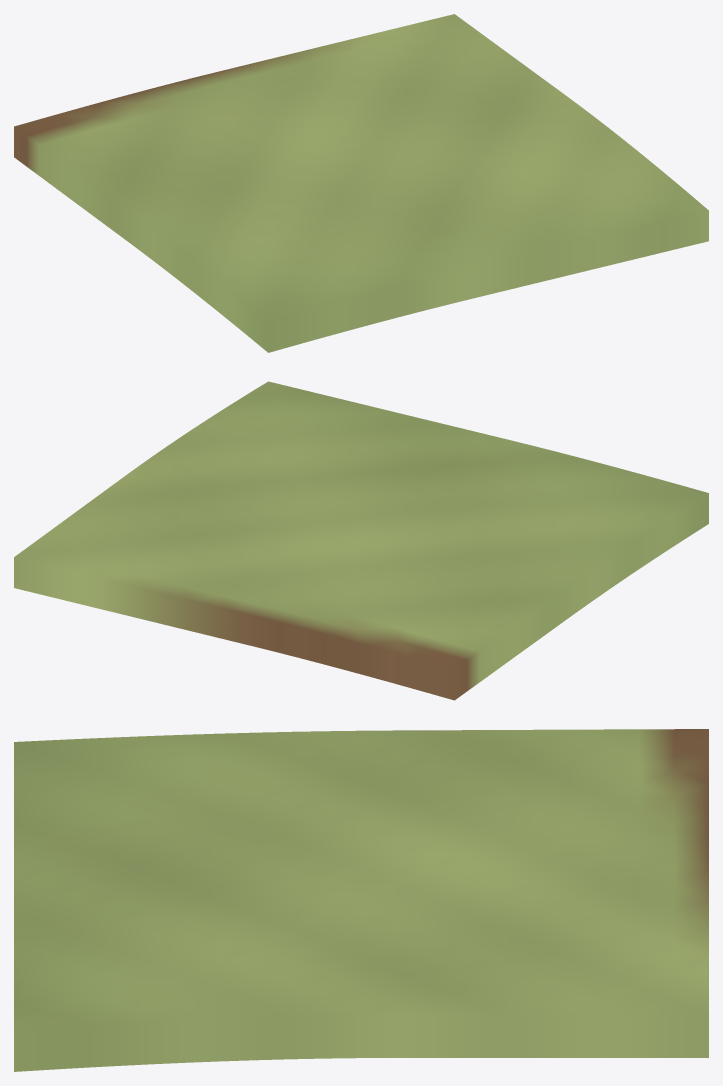
3 renders of one model, top to bottom at view 1: azimuth 30°, elevation 25°; view 2: azimuth 150°, elevation 25°; view 3: azimuth 270°, elevation 25°, orthographic. The views are drawn at different scales.
Parts seen in each view (by area): view 1: terrain; view 2: terrain; view 3: terrain.
Part boxes in pixels (left/top/right/bottom): terrain: left=14, top=14, right=708, bottom=352; terrain: left=14, top=381, right=708, bottom=700; terrain: left=14, top=729, right=708, bottom=1071.
Size of the model in its own units: 30 by 2.95 by 30.
